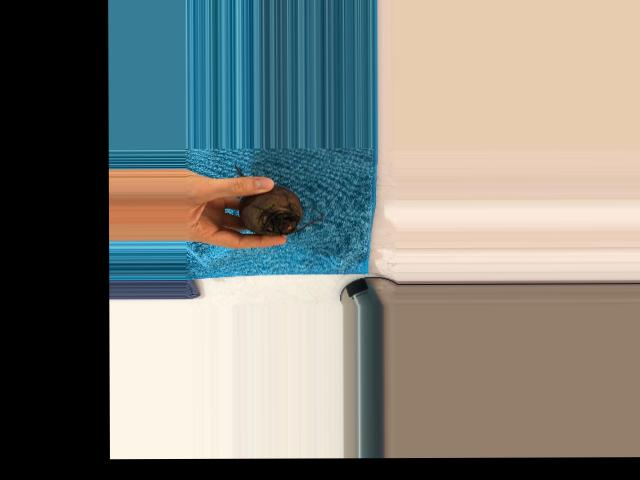beet: (235, 164, 323, 235)
